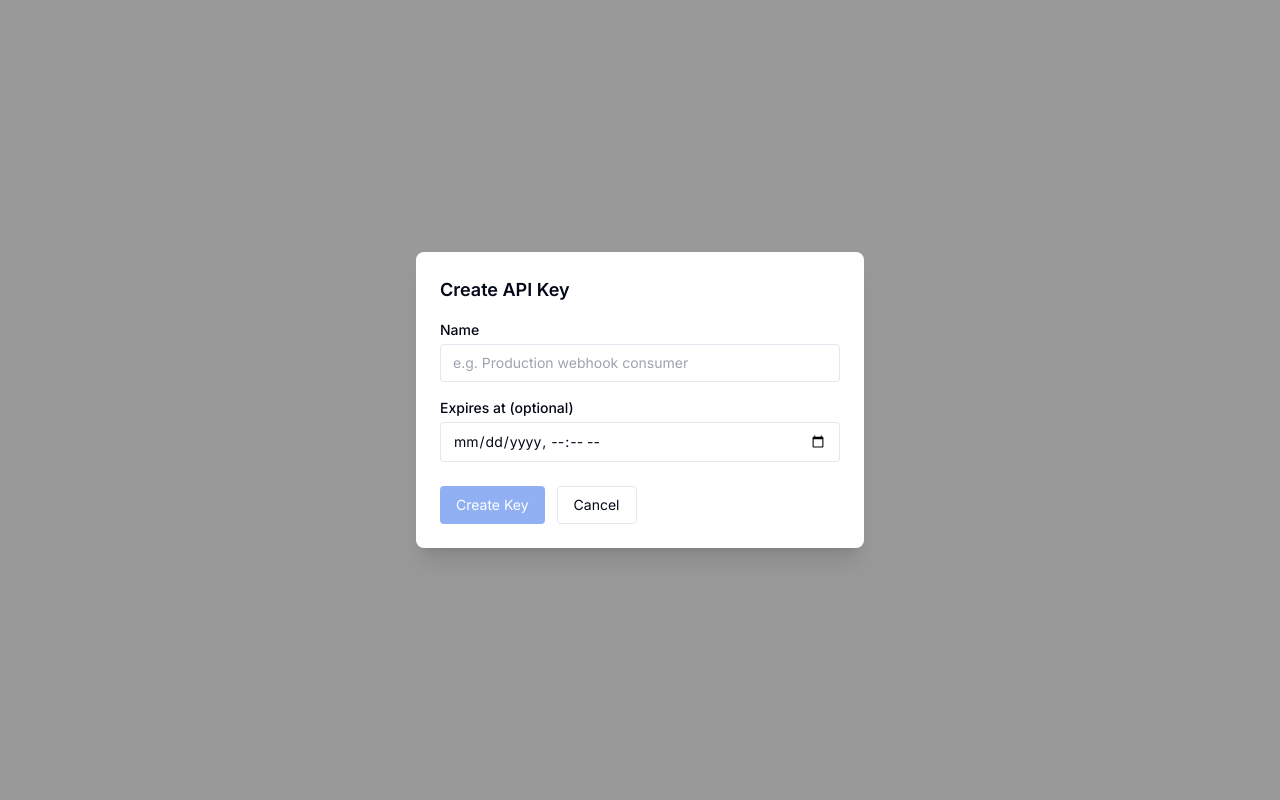
Test: CreateApiKeyDialog › create button enabled after typing name
Type "My Key" into the field with test id "input-key-name". click: (640,363)
box: [440,344,840,382]
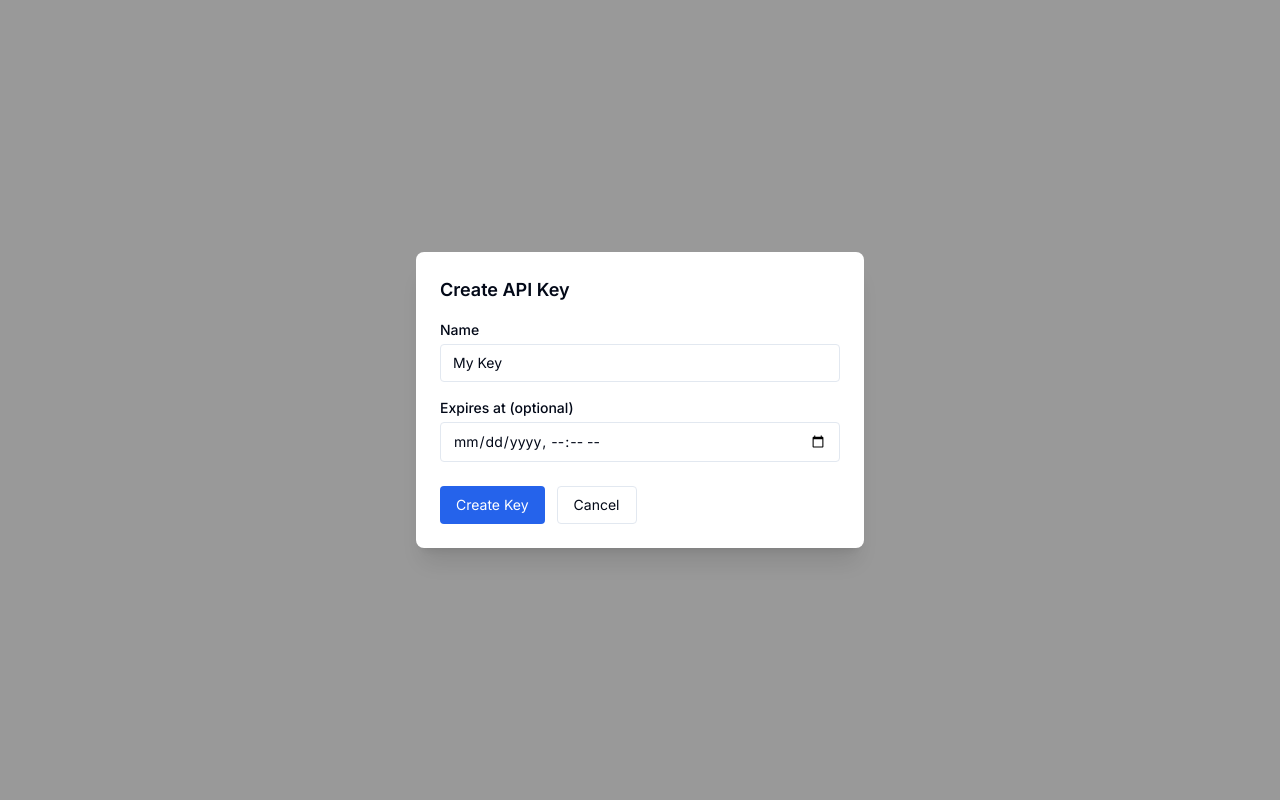
Expected: the button with test id "btn-create-key" is enabled, [440,486,545,524]
